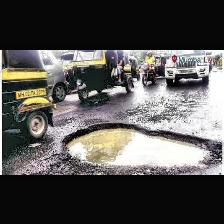pothole: (61, 122, 223, 174)
